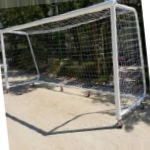goals: (1, 1, 147, 118)
